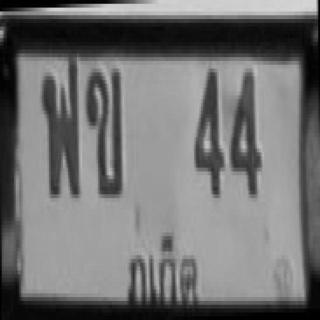A02: (86, 56, 128, 212)
A31: (36, 54, 85, 204)
N04: (188, 60, 230, 210), (230, 54, 267, 203)
P48: (118, 224, 209, 314)
